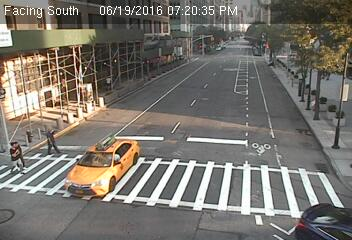neg: (110, 148, 123, 166)
pos: (42, 125, 66, 157)
